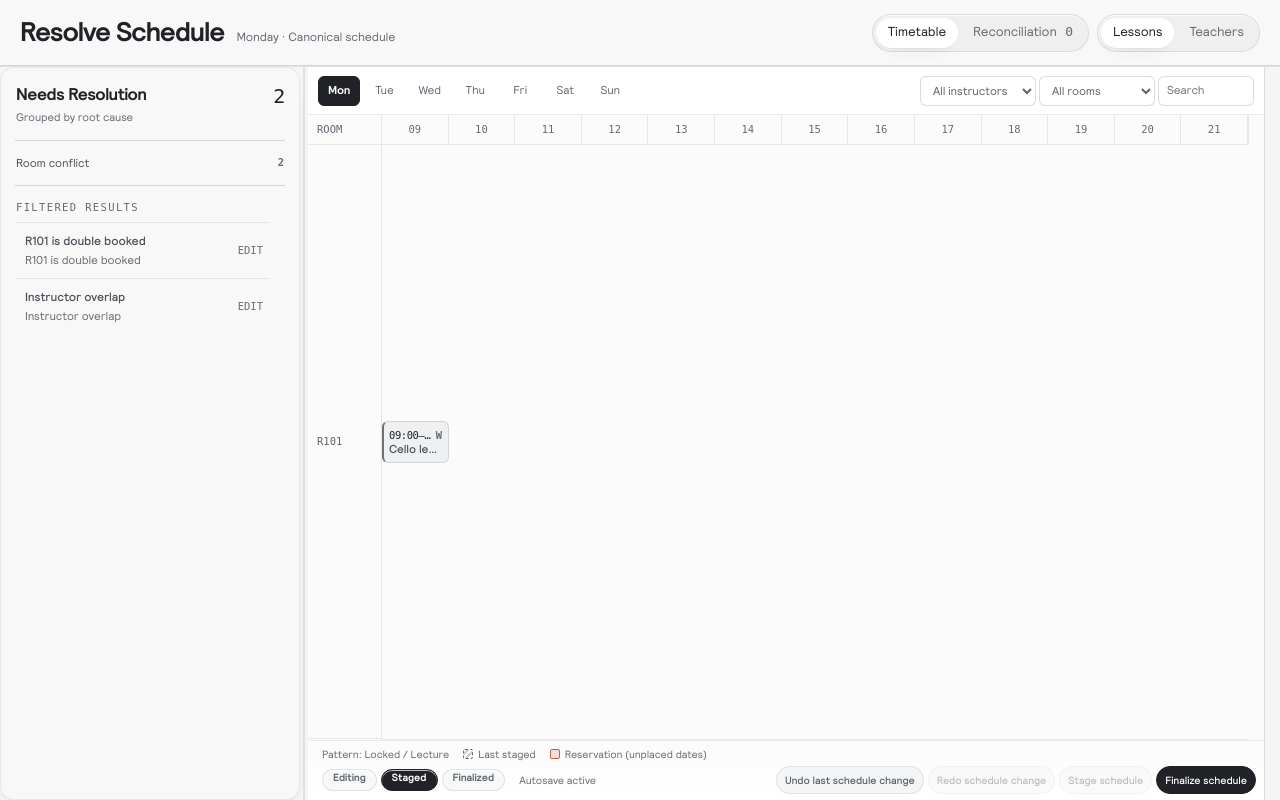
it: finalize schedule › atomically caches success, invalidates dashboard, persists warnings, and navigates to Export once
The width and height of the screenshot is (1280, 800).
Step 1. Click the button "Finalize schedule" → point(1206, 780), box [1156, 766, 1256, 794]
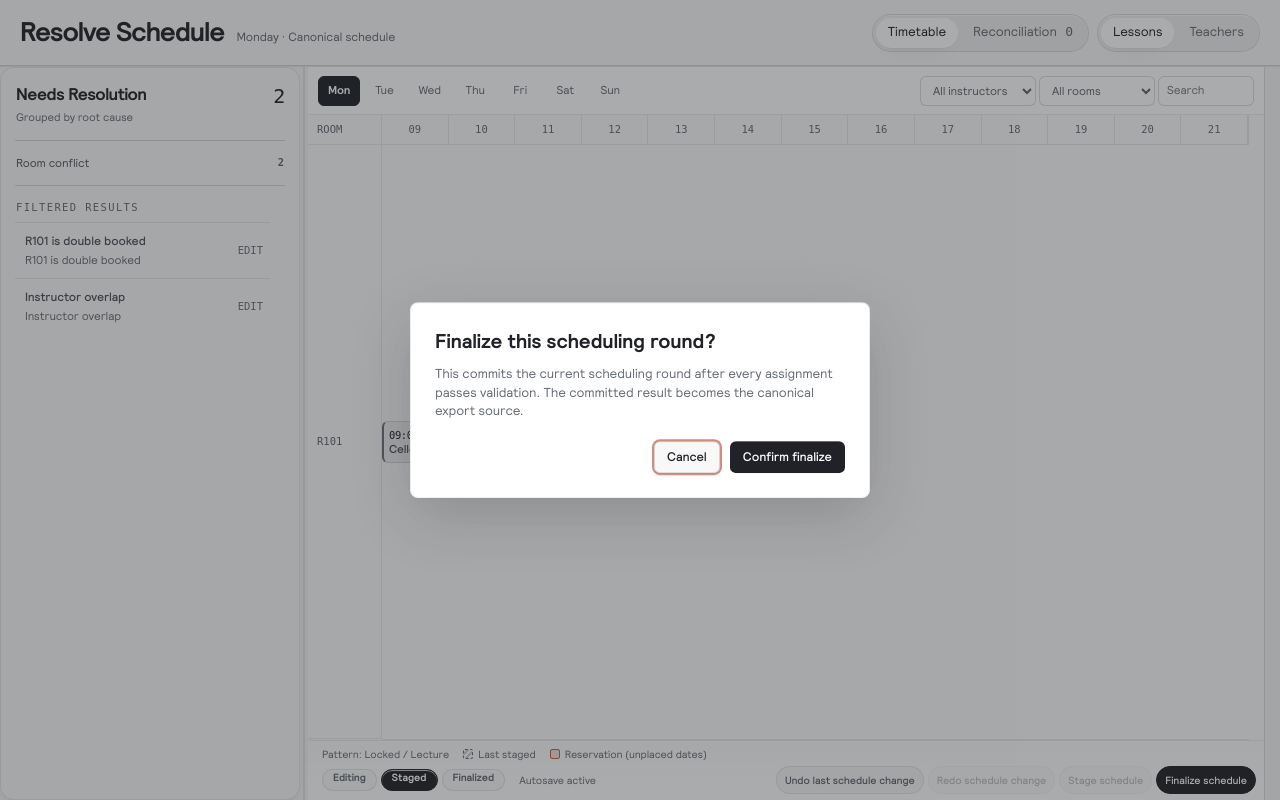
Step 2. Click the button "Confirm finalize" → point(787, 457), box [730, 441, 845, 473]
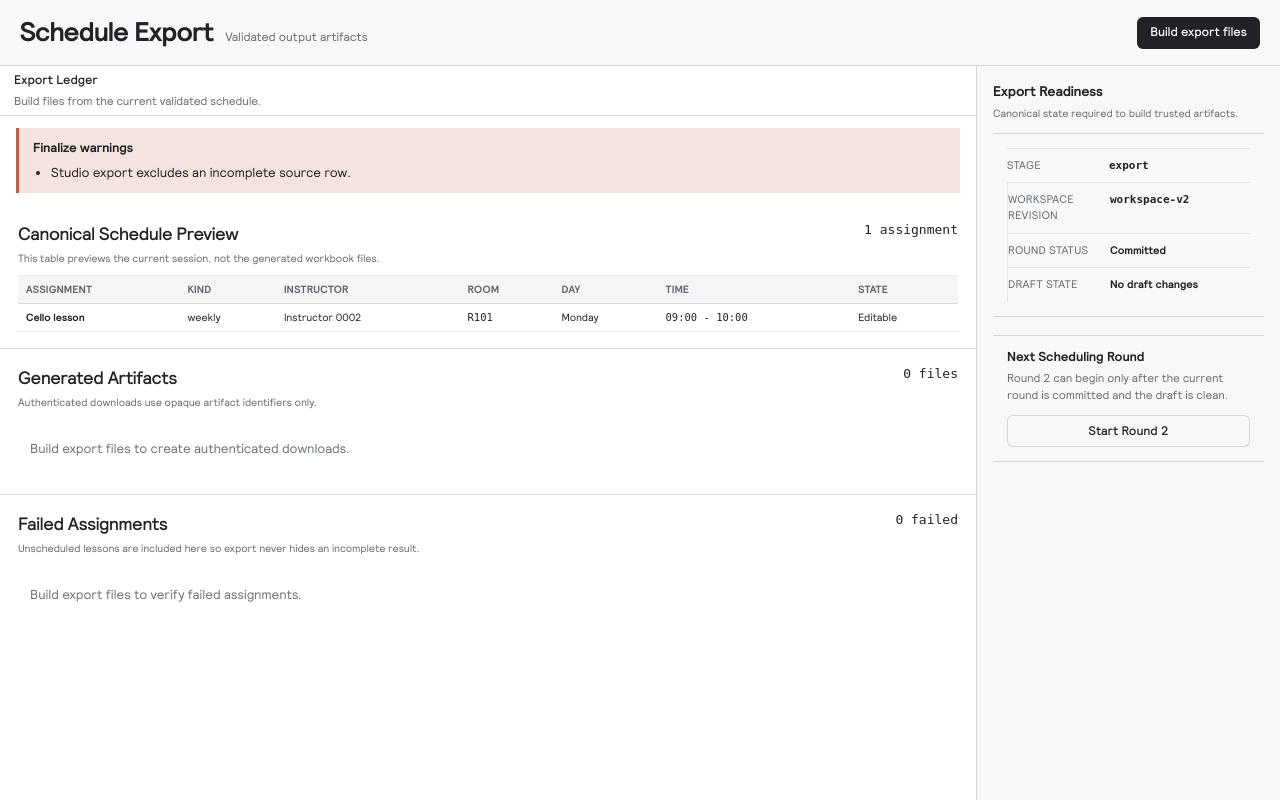
Expected: the list item "Studio export excludes an incomplete source row." is shown, [51, 164, 351, 180]
